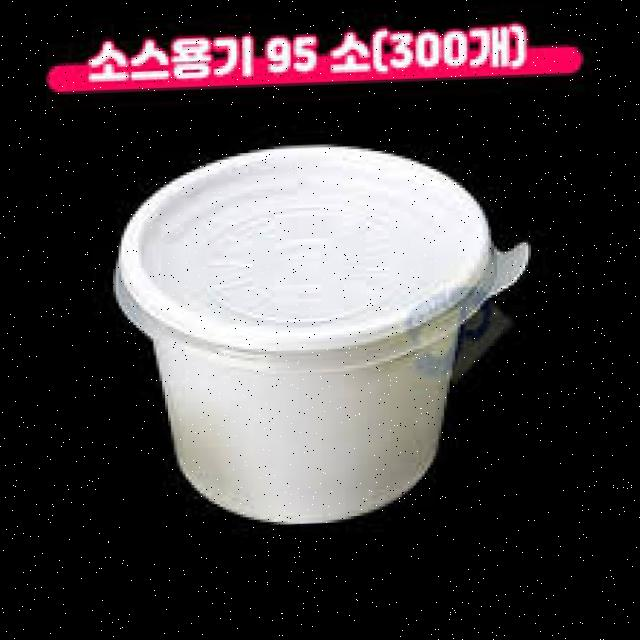disposable: (111, 130, 511, 539)
